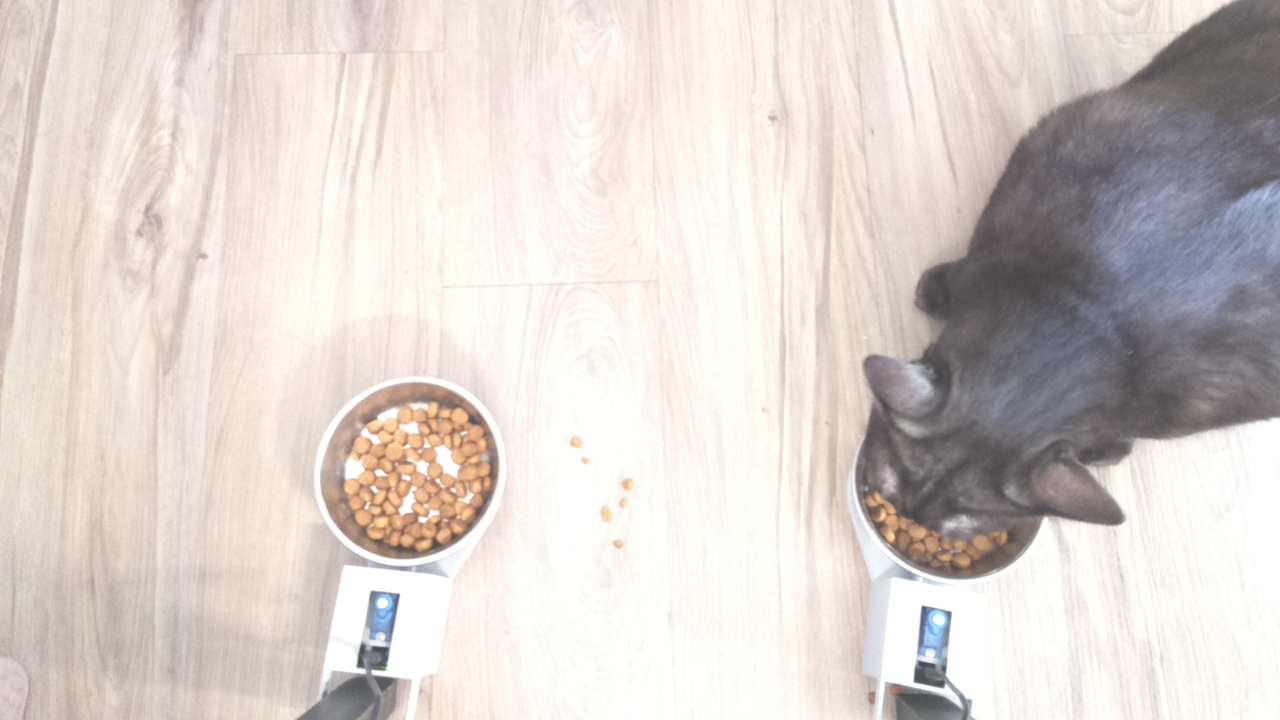open_bowl: (311, 372, 506, 569)
saki_eating: (840, 282, 1156, 597)
